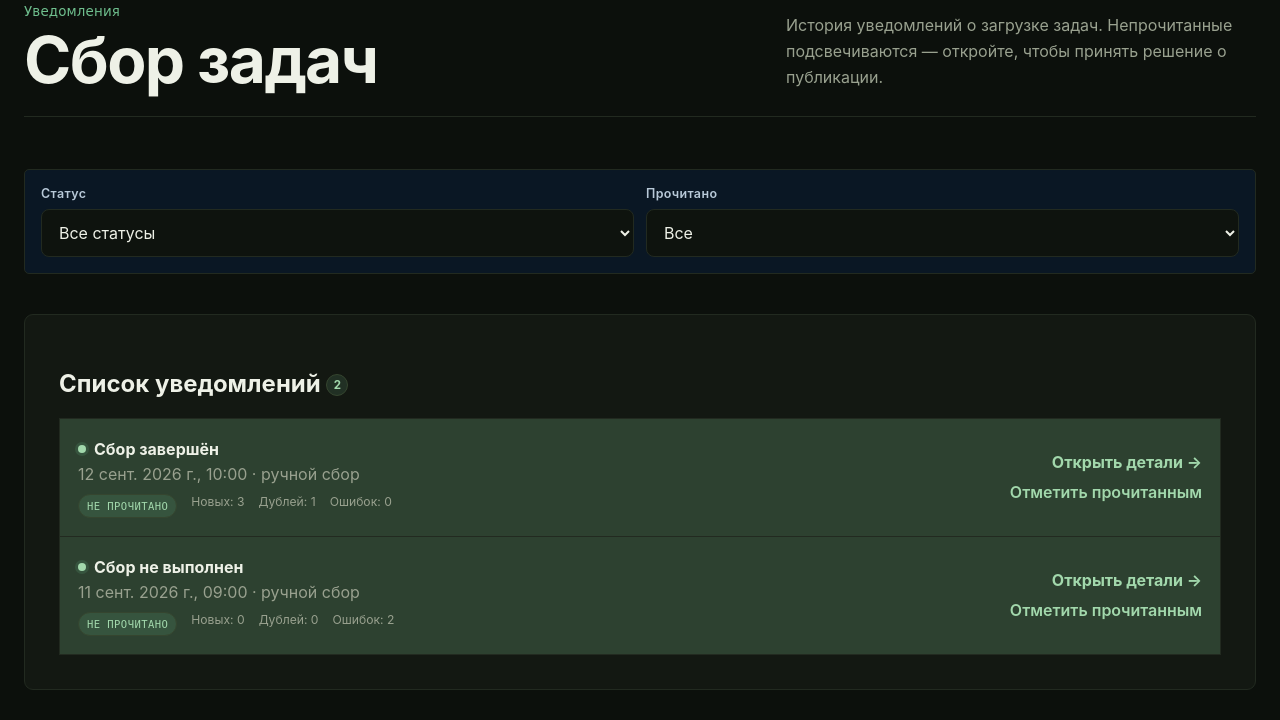
Test: NotificationsPage › отметка прочитанным и фильтр «Непрочитанные»
// Отмечаем j1 (первая строка) прочитанным.
Click the 1st button "Отметить прочитанным": (1106, 492) [1010,482,1202,502]
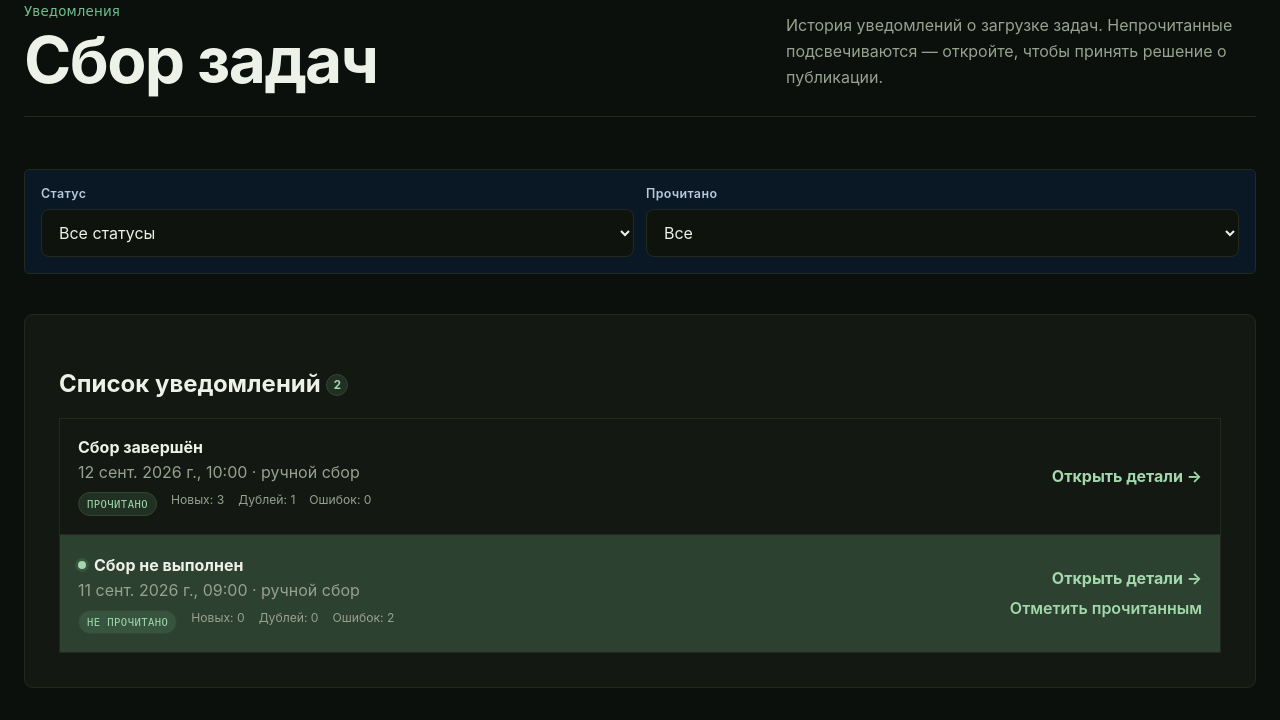
Expected: the 2nd text "Прочитано" is shown, [78,492,157,516]
// После фильтра «Непрочитанные» остаётся только j2.
Select "Непрочитанные" in the dropdown labelled "Прочитано": (942, 233) [646,209,1239,257]
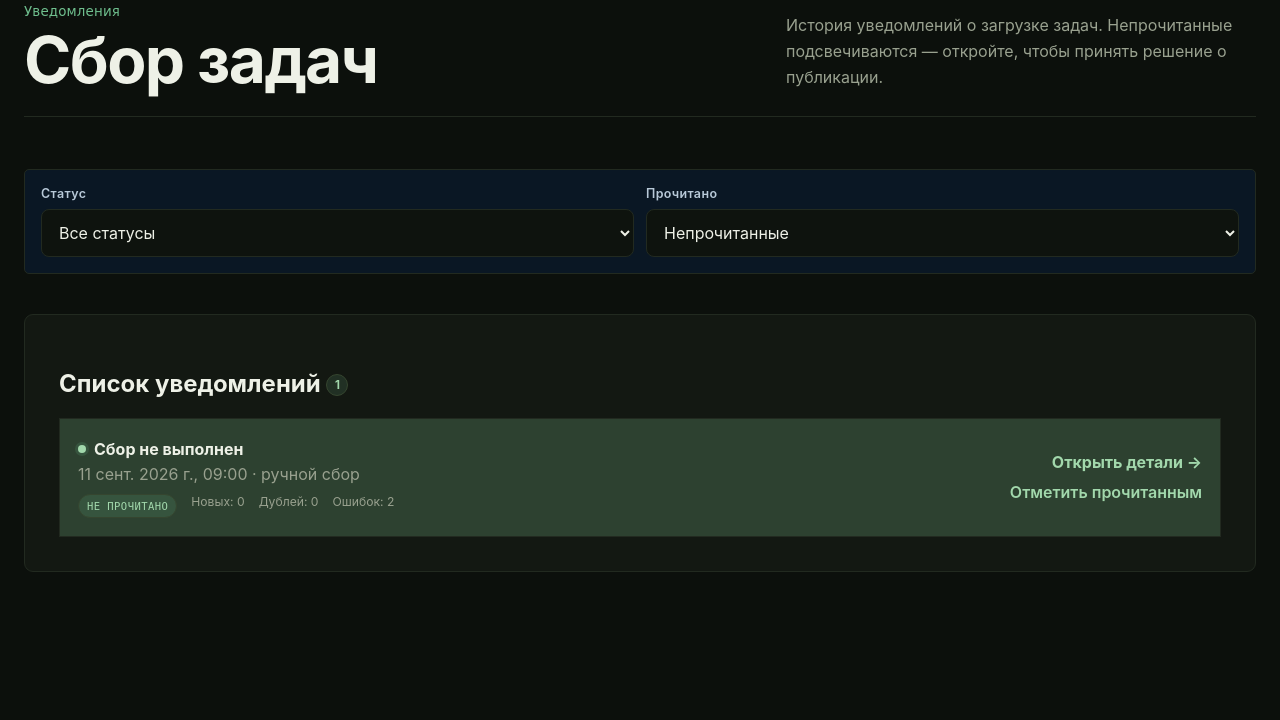
Expected: the text "Сбор не выполнен" is shown, [78,439,243,459]
Result: the text "Сбор завершён" is gone
